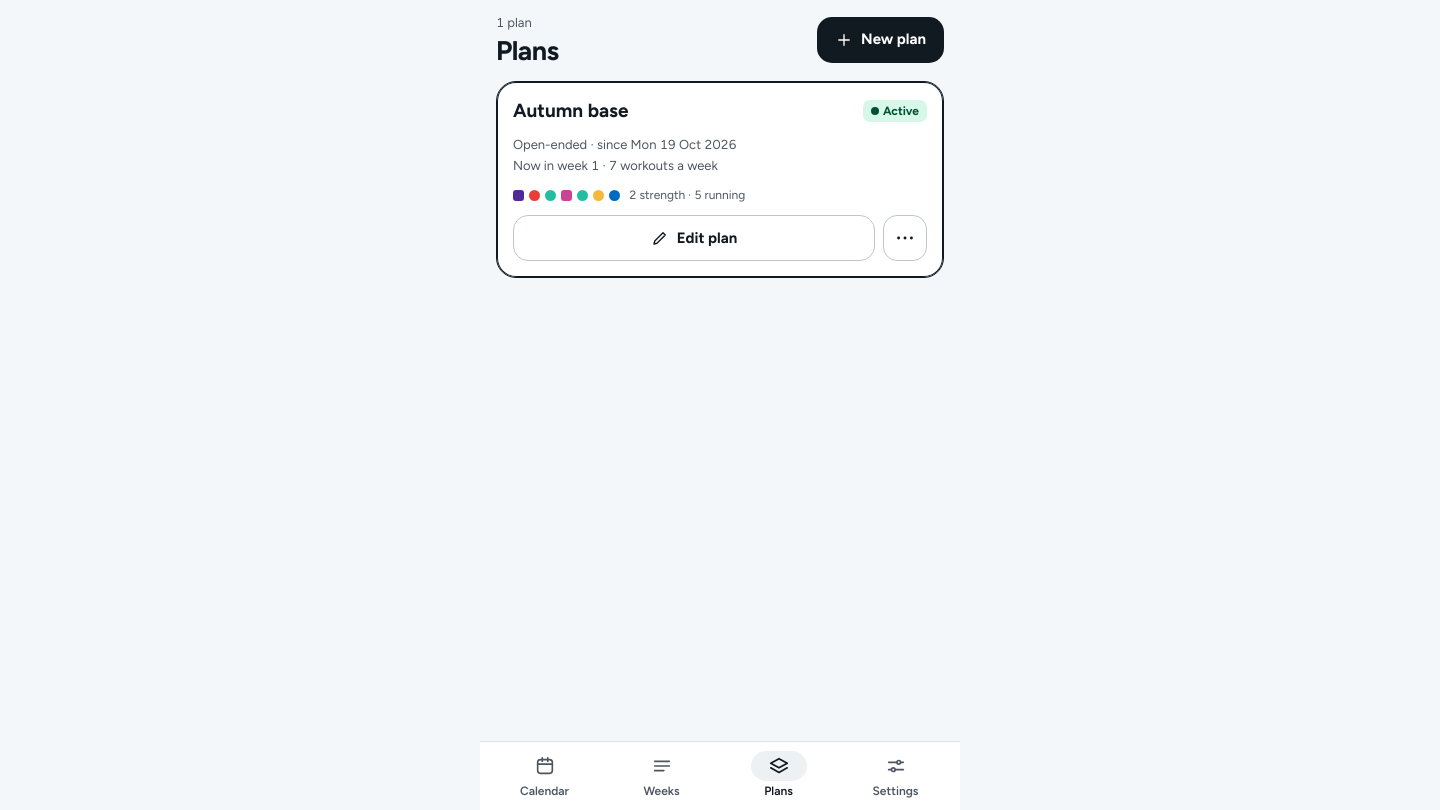
Test case: ending a plan › keeps the plan when the user chooses Keep plan
Expected: the heading "Plans" is shown, [496,34,558,66]
Step 1. Click the button named "End Autumn base" → (905, 238), box [883,215,927,261]
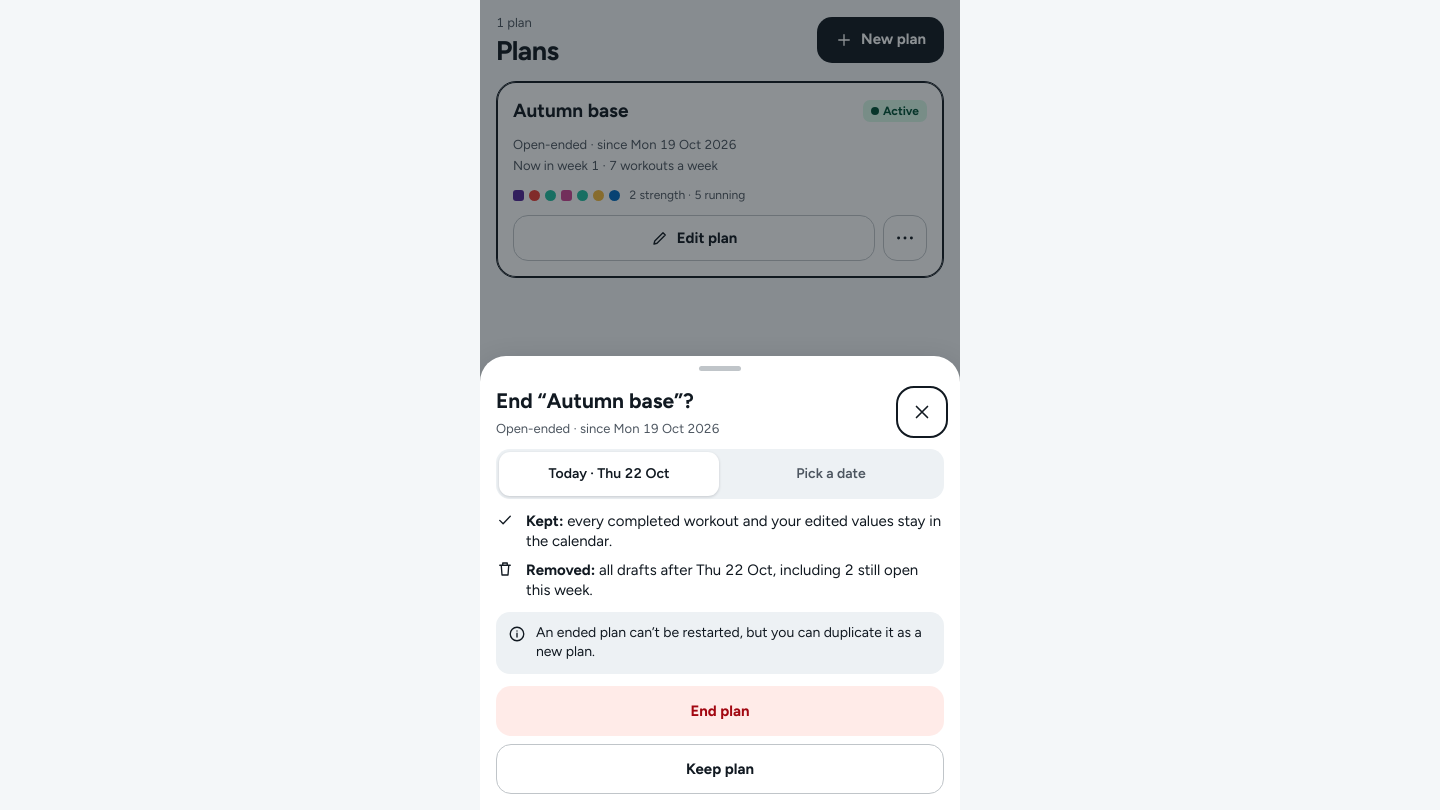
Step 2. Click the button "Keep plan" → (720, 769), box [496,744,944,794]
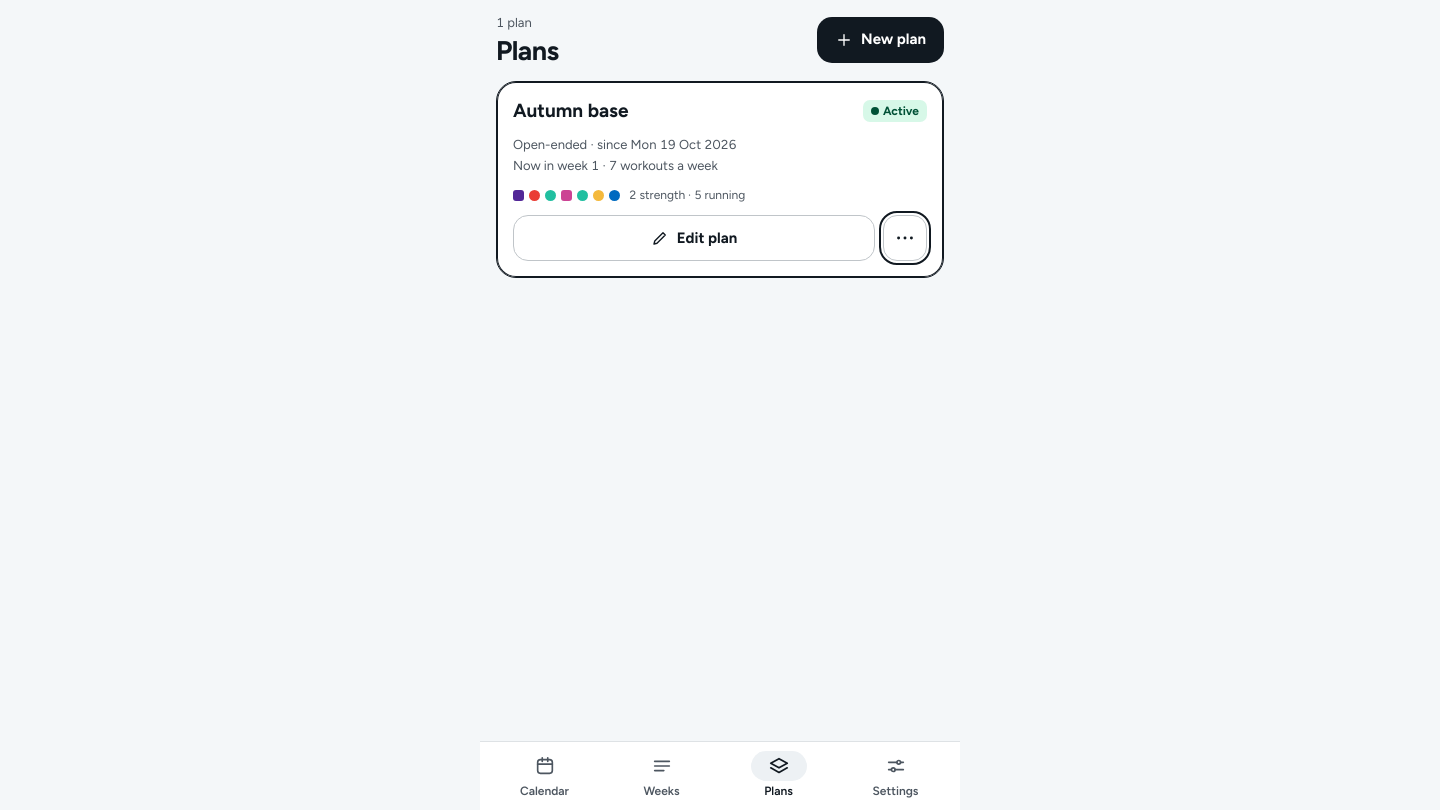
Expected: the dialog is gone
